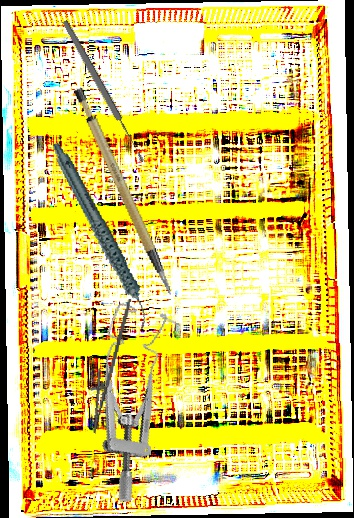Handpiece: (50, 131, 152, 340)
Needle Holder: (82, 295, 132, 436)
Scalpel Handle: (70, 78, 174, 308)
Speculum: (54, 295, 198, 507)
Surgical Spoon: (60, 18, 147, 165)
